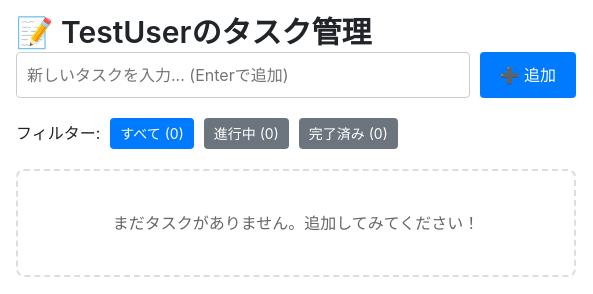
Bulk Deletion Integration Tests (US1) › 一括削除の受入シナリオ › AS-007: 完了タスクがない場合、クリアボタンは表示されない
The width and height of the screenshot is (593, 294).
// 未完了タスクを追加
Type "未完了タスク" into the field with placeholder "新しいタスクを入力... (Enterで追加)" at (243, 74), box [16,52,470,98]
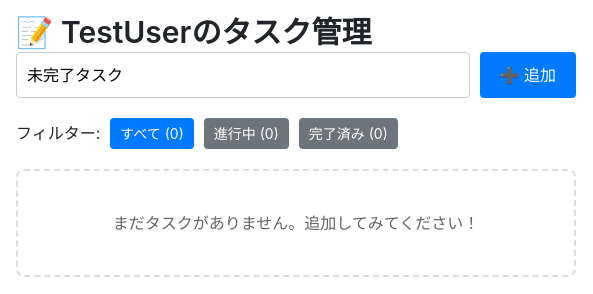
Click the button "➕ 追加" at (528, 74), box [480,52,576,98]
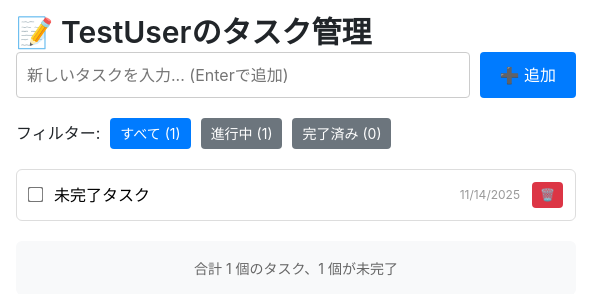
Expected: the text "未完了タスク" is shown, [54,184,150,204]
